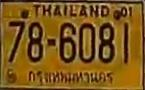0: (78, 22, 95, 62)
1: (123, 22, 128, 63)
6: (60, 22, 76, 62)
7: (8, 20, 24, 62)
8: (99, 22, 115, 62), (27, 21, 43, 61)
BKK: (26, 67, 116, 87)
